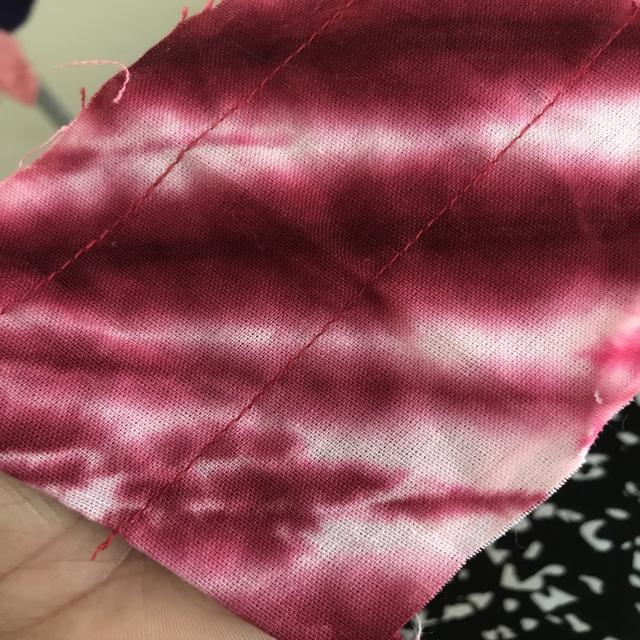good: (338, 222, 485, 276)
